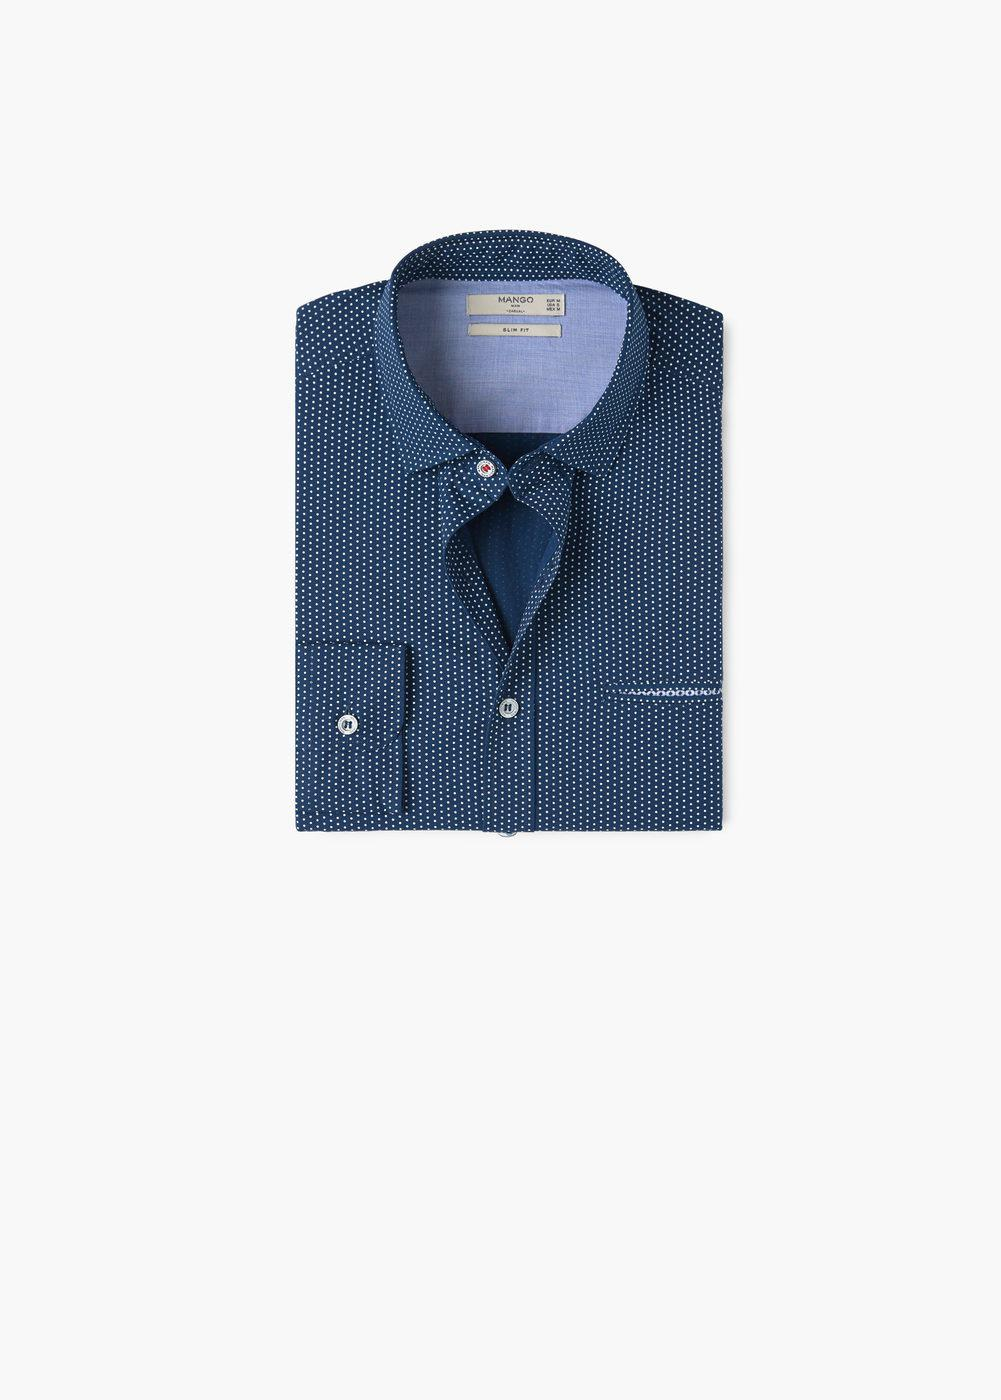teeshirt: (261, 206, 780, 855)
